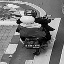mobil: (6, 5, 59, 54)
